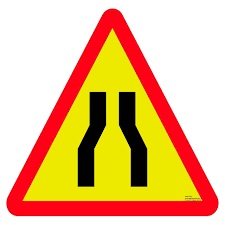narrow-road: (29, 67, 208, 212)
